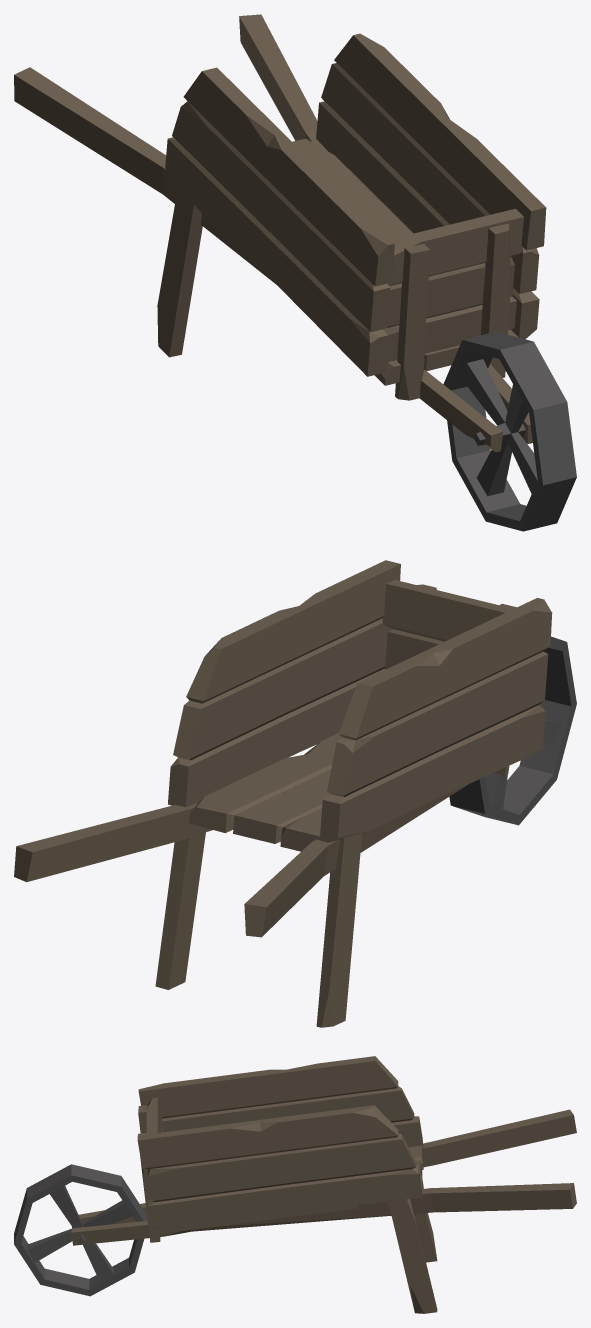
The model's file is SM_Prop_Wheelbarrow_01.glb.
The picture shows the model from 3 angles, top to bottom: view 1: azimuth 30°, elevation 25°; view 2: azimuth 150°, elevation 25°; view 3: azimuth 270°, elevation 25°; orthographic projection. The views are drawn at different scales.
Parts seen in each view (by area): view 1: SM_Prop_Wheelbarrow_01, SM_Prop_Wheelbarrow_Wheel_01; view 2: SM_Prop_Wheelbarrow_01, SM_Prop_Wheelbarrow_Wheel_01; view 3: SM_Prop_Wheelbarrow_01, SM_Prop_Wheelbarrow_Wheel_01.
Boxes of the visible parts, x1,y1,x2,y2 form: SM_Prop_Wheelbarrow_01: [14, 14, 546, 452]; SM_Prop_Wheelbarrow_Wheel_01: [443, 331, 576, 531]; SM_Prop_Wheelbarrow_01: [14, 560, 552, 1027]; SM_Prop_Wheelbarrow_Wheel_01: [449, 636, 576, 825]; SM_Prop_Wheelbarrow_01: [71, 1056, 576, 1313]; SM_Prop_Wheelbarrow_Wheel_01: [14, 1164, 147, 1296].
Bounding box in the file's own units: 0.7052 × 0.8462 × 2.09.
2 materials, 2 textured.
